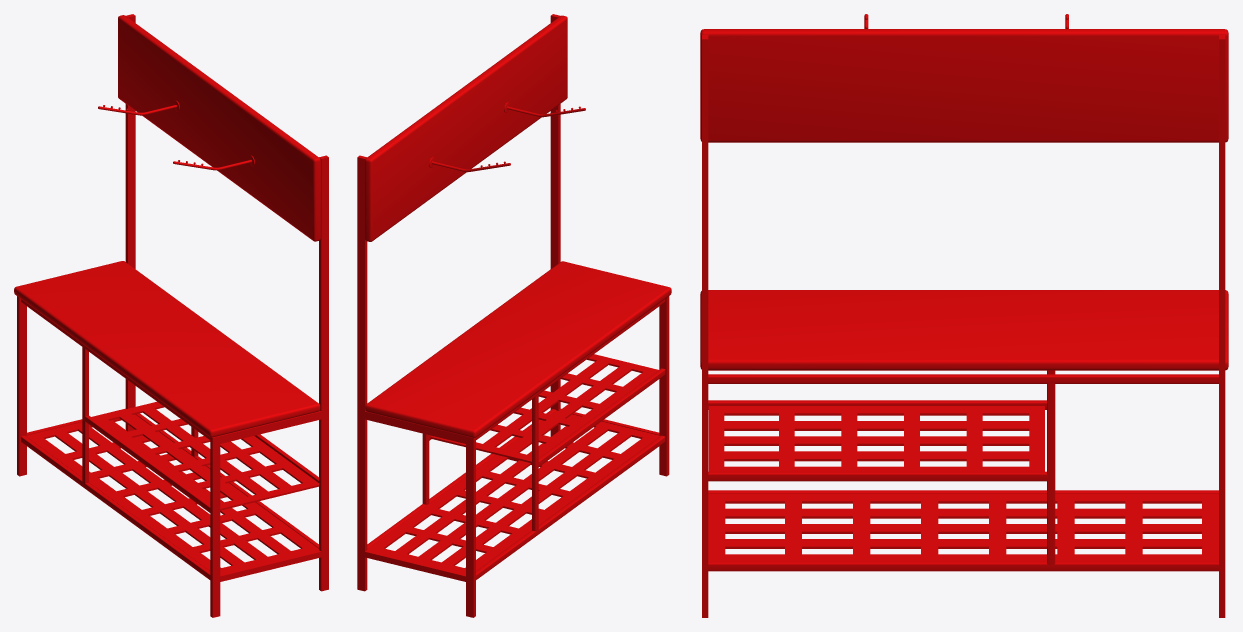
Rendered from (Msh)ShoeRack.fbx.
3 views of the same model, side by side, from view 1: azimuth 30°, elevation 25°; view 2: azimuth 150°, elevation 25°; view 3: azimuth 270°, elevation 25° (orthographic). The views are drawn at different scales.
Parts seen in each view (by area): view 1: shoeRack; view 2: shoeRack; view 3: shoeRack.
Boxes of the visible parts, x1=… form: shoeRack: x1=14, y1=14, x2=328, y2=617; shoeRack: x1=357, y1=14, x2=671, y2=617; shoeRack: x1=700, y1=14, x2=1228, y2=617.
Bounding box in the file's own units: 66.74 × 233 × 192.
